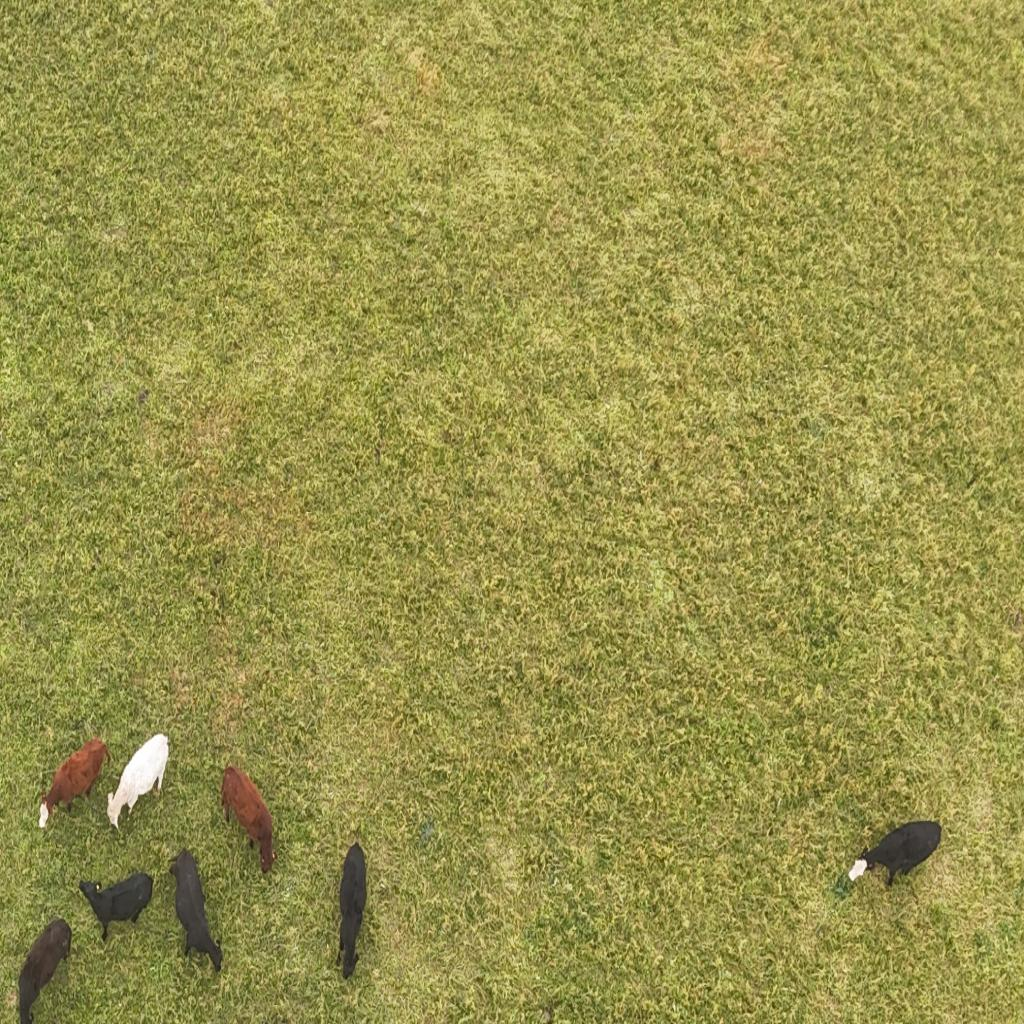cow: (843, 816, 943, 897), (166, 846, 224, 974), (105, 731, 173, 835), (39, 736, 114, 830), (220, 763, 278, 875), (17, 916, 75, 1024), (336, 841, 368, 979)
